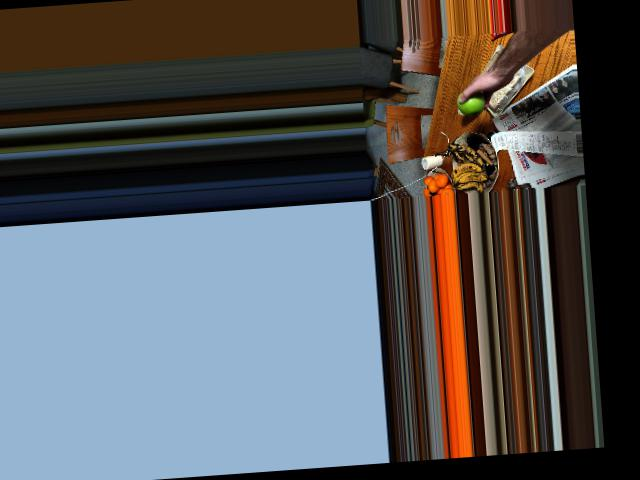apple: (454, 85, 489, 116)
